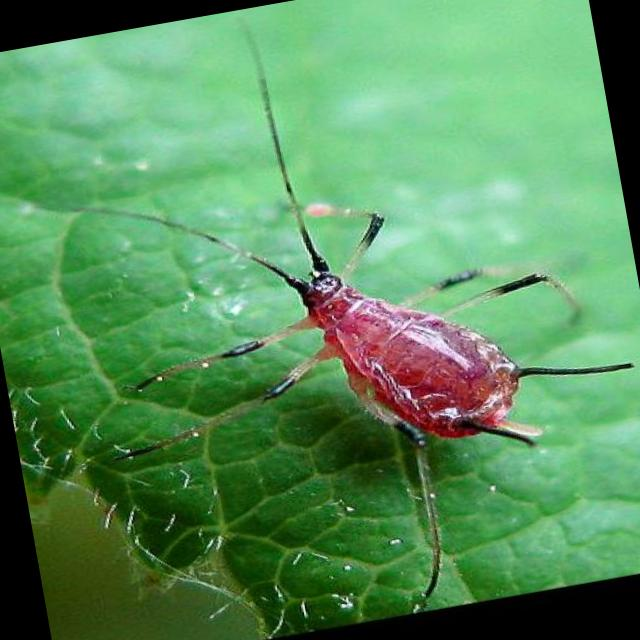aphid: (75, 86, 640, 622)
